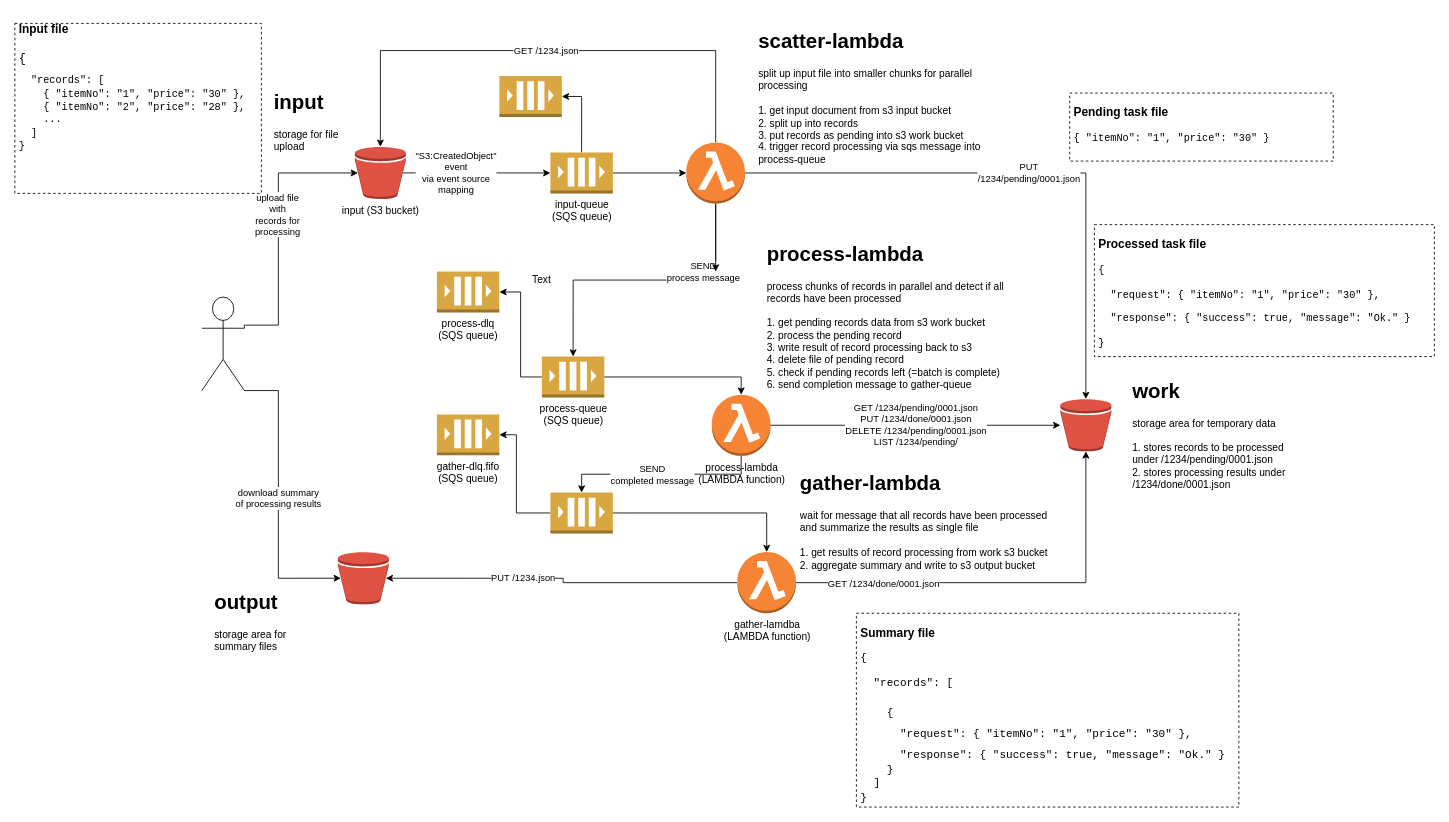
Some shapes in this 1449 by 822 pixel diagram are drawn without their labels. Here are the shapes that lost their labels. From the top down, the centre of each, then its label:
At (x=530, y=96): "input-dlq (SQS)".
At (x=715, y=173): "scatter-lambda (LAMBDA function)".
At (x=222, y=343): "Partner".
At (x=1085, y=424): "work (S3 bucket)".
At (x=581, y=512): "gather-queue.fifo queue (SQS queue)".
At (x=363, y=577): "output (S3 bucket)".
